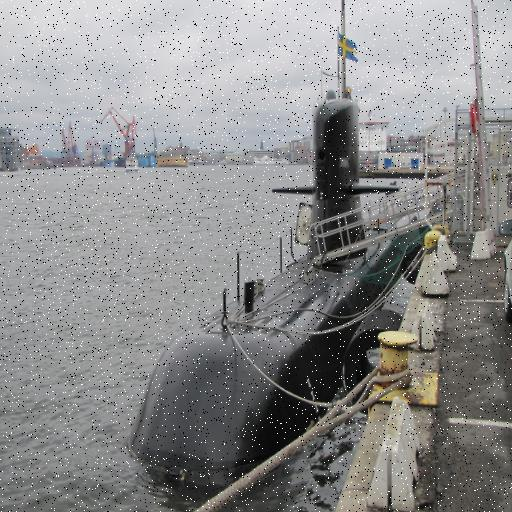submarine: (130, 101, 426, 489)
